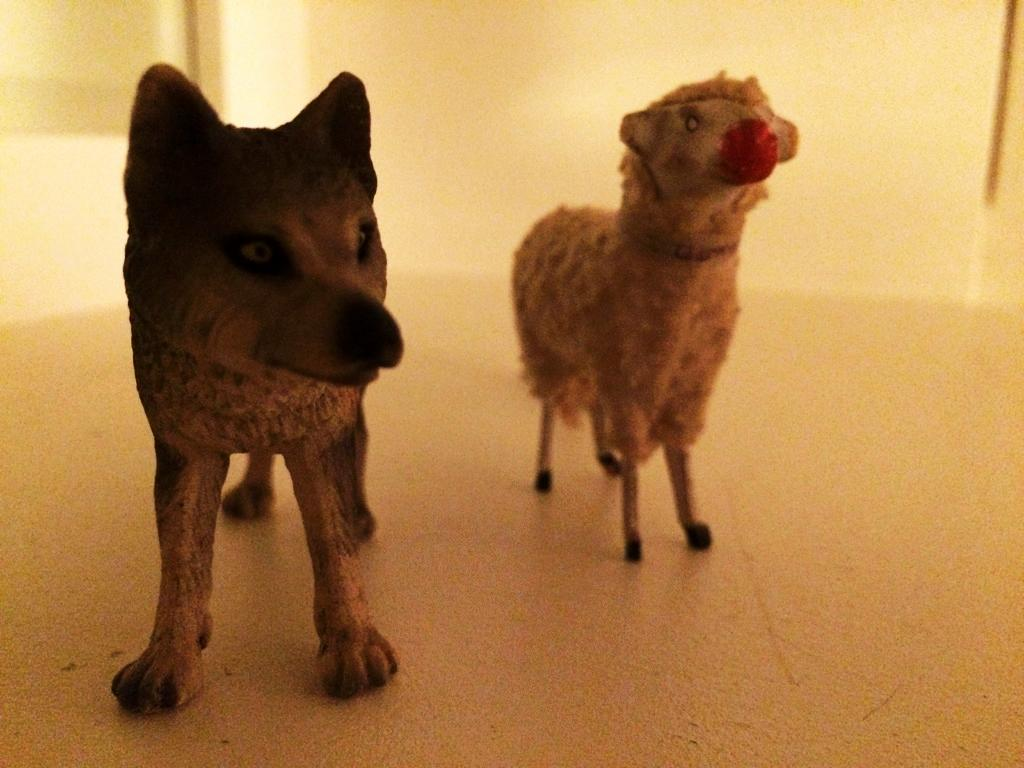Sheep: (490, 58, 800, 556)
